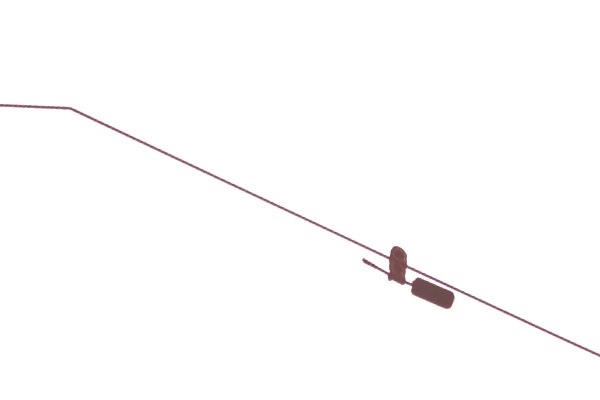damper_defect: (358, 243, 457, 310)
